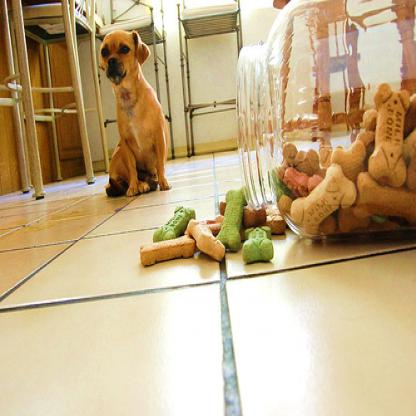dog: (96, 29, 172, 196)
